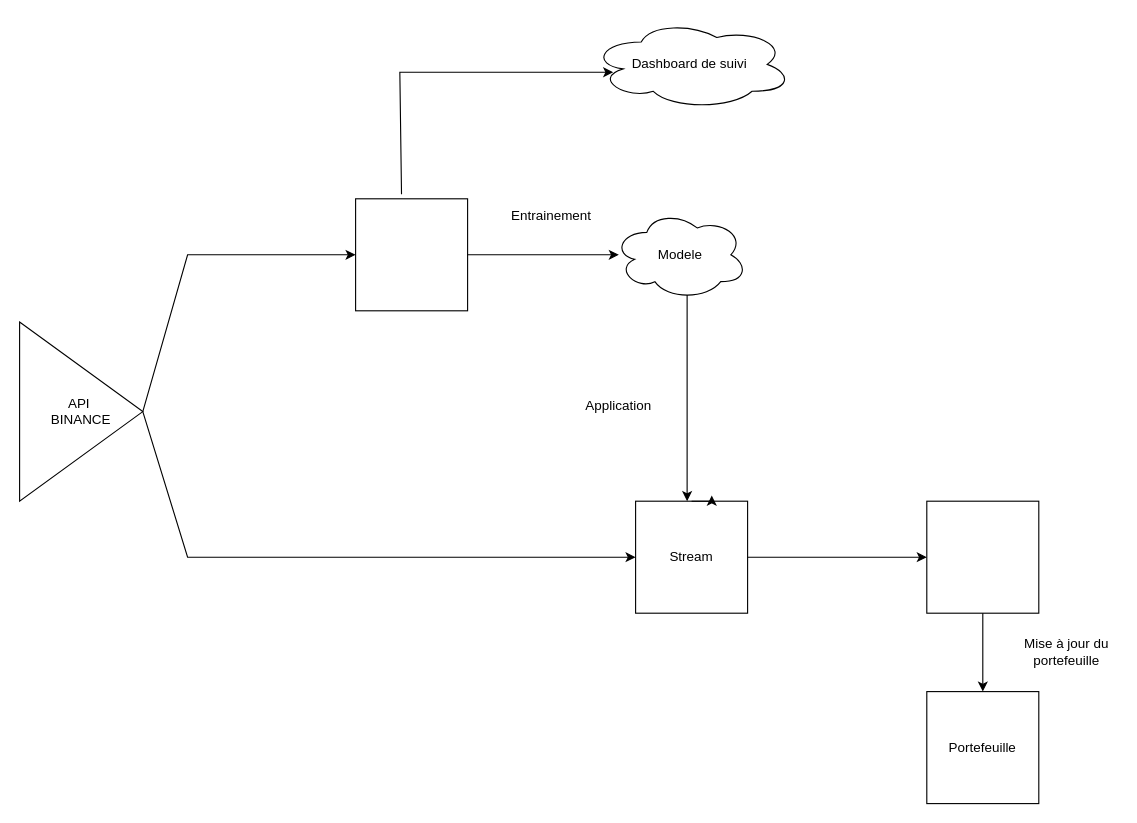
Some shapes in this 1137 by 823 pixel diagram are drawn without their labels. The shapes that lost their labels are listed below. From the top down, each one's box as (x1, y1, x2, y2) in pixels, then its label:
(354, 198, 468, 311): Historique
(926, 500, 1039, 613): Actions
